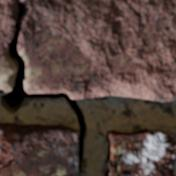brick: (0, 123, 79, 175), (106, 129, 175, 175)
broken_brick: (0, 0, 175, 102)
crack: (0, 2, 87, 173)
